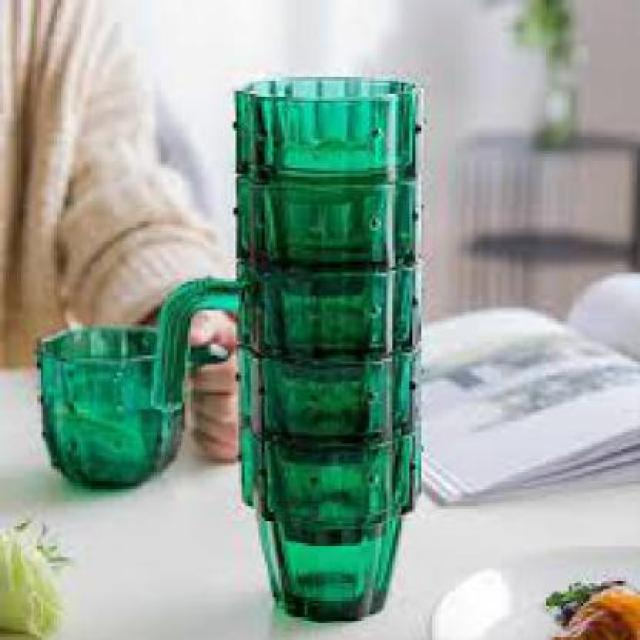kaca: (146, 74, 425, 617), (31, 322, 224, 486)
